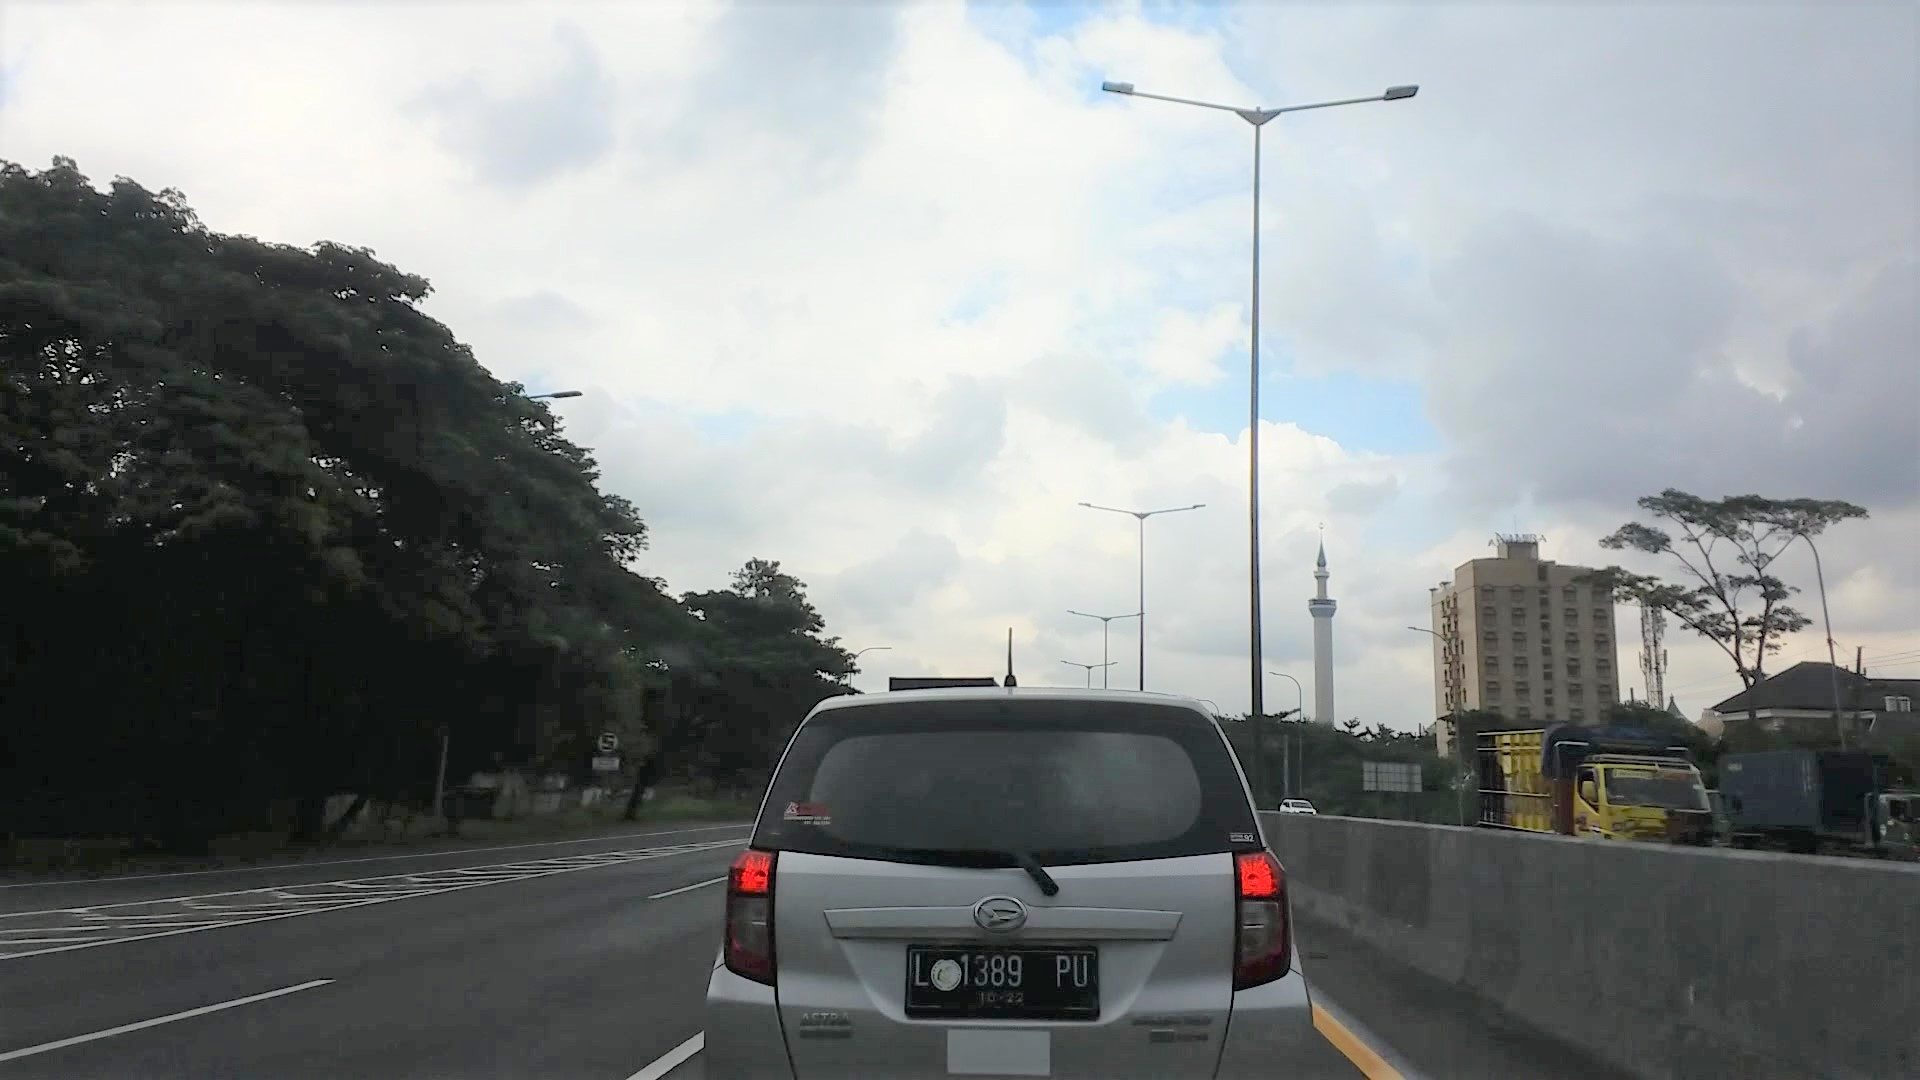plate_positive: (905, 943, 1101, 1021)
